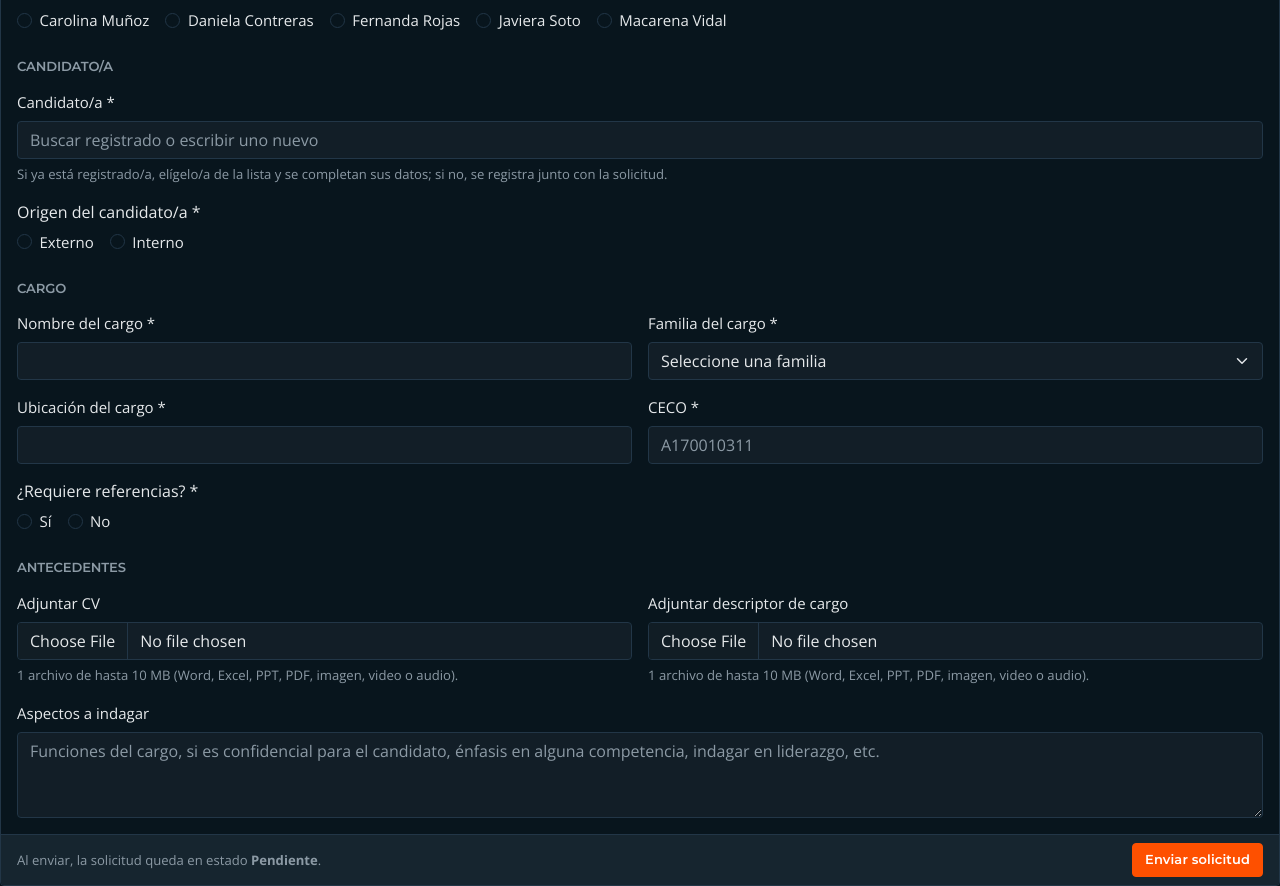
Test: FormularioSolicitud › exige los campos obligatorios del formulario
(page scrolled)
Click the button "Enviar solicitud": click(1198, 860) [1132,843,1263,876]
(page scrolled)
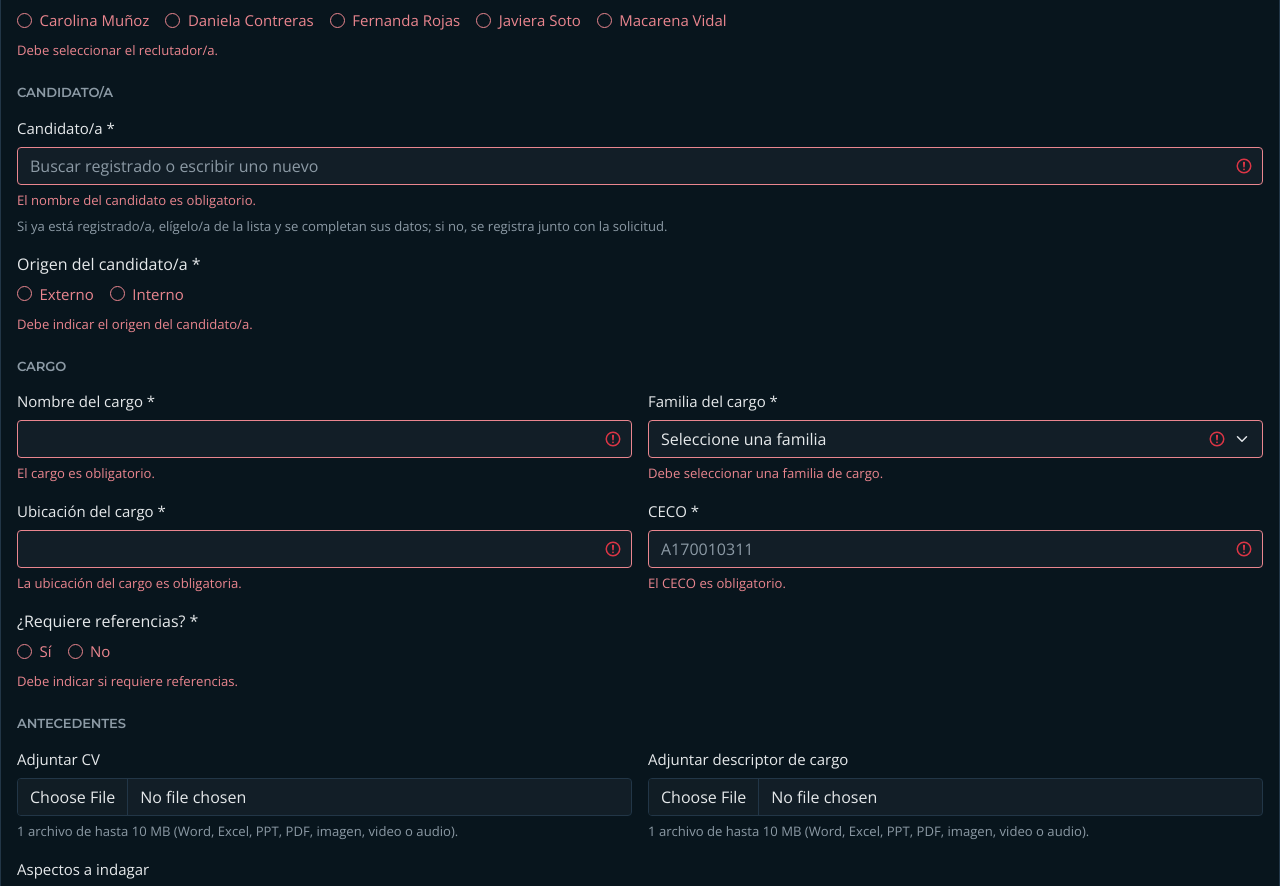
Expected: the text "Debe seleccionar el reclutador/a." is shown, [17,41,218,59]
Expected: the text "El nombre del candidato es obligatorio." is shown, [17,190,256,208]
Expected: the text "Debe indicar el origen del candidato/a." is shown, [17,314,253,332]
